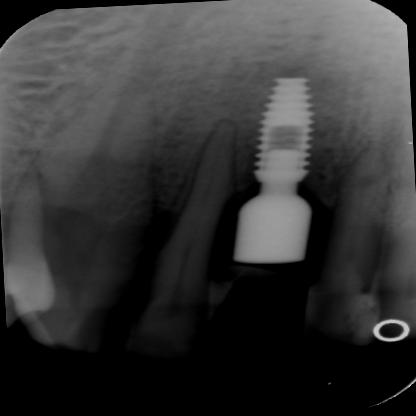Bicon: (238, 70, 343, 195)
